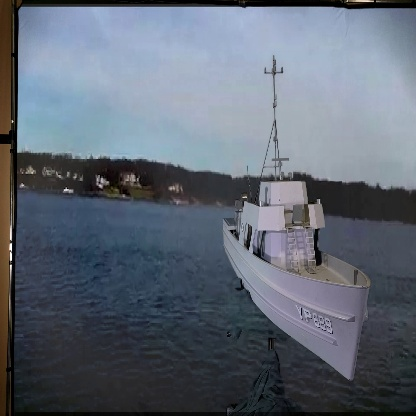YP689: (222, 53, 371, 376)
